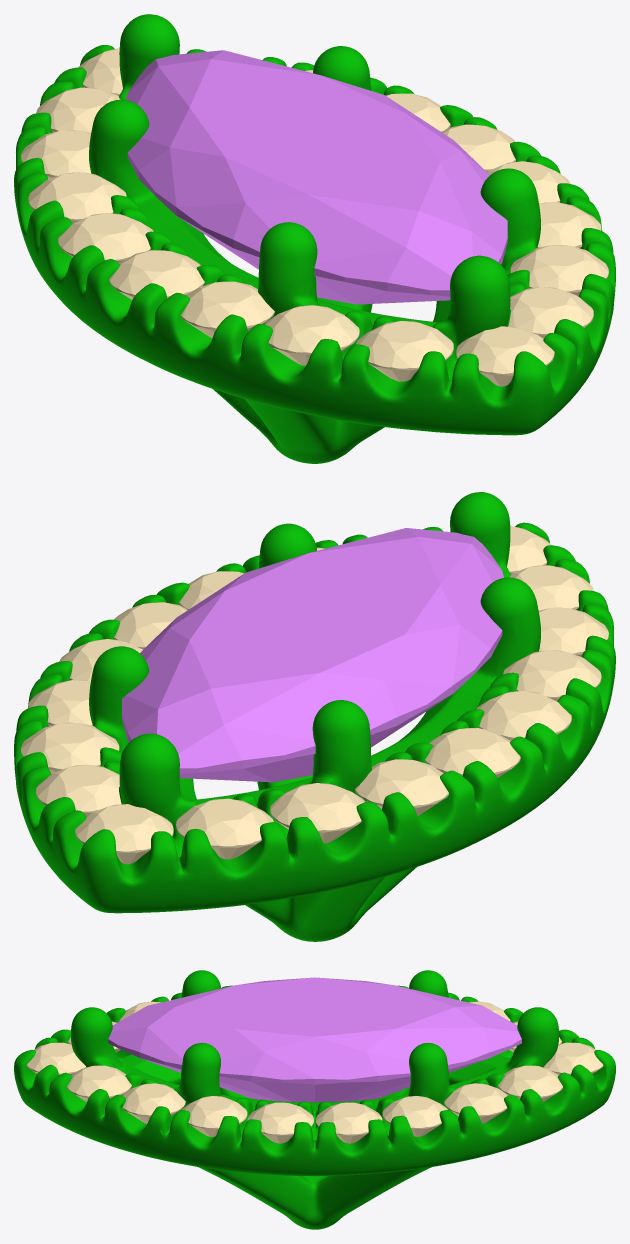
The picture shows the model from 3 angles, top to bottom: view 1: azimuth 30°, elevation 25°; view 2: azimuth 150°, elevation 25°; view 3: azimuth 270°, elevation 25°; orthographic projection. The views are drawn at different scales.
Visible parts, largest first — view 1: Metal01, Diamond_Marquise, Diamond_Round.003, Diamond_Round.004, Diamond_Round.005, Diamond_Round, Diamond_Round.002, Diamond_Round.013, Diamond_Round.007, Diamond_Round.014, Diamond_Round.008, Diamond_Round.015 (+6 smaller); view 2: Metal01, Diamond_Marquise, Diamond_Round.016, Diamond_Round.015, Diamond_Round.014, Diamond_Round.013, Diamond_Round.017, Diamond_Round, Diamond_Round.010, Diamond_Round.005, Diamond_Round.009, Diamond_Round.004 (+6 smaller); view 3: Metal01, Diamond_Marquise, Diamond_Round.001, Diamond_Round.012, Diamond_Round.007, Diamond_Round.010, Diamond_Round.006, Diamond_Round.011, Diamond_Round.009, Diamond_Round.008, Diamond_Round.002, Diamond_Round.017.
Boxes of the visible parts, x1=… form: Metal01: x1=14, y1=14, x2=615, y2=463; Diamond_Marquise: x1=126, y1=50, x2=507, y2=304; Diamond_Round.003: x1=356, y1=321, x2=453, y2=381; Diamond_Round.004: x1=264, y1=305, x2=359, y2=365; Diamond_Round.005: x1=181, y1=281, x2=274, y2=338; Diamond_Round: x1=109, y1=250, x2=204, y2=299; Diamond_Round.002: x1=456, y1=326, x2=554, y2=386; Diamond_Round.013: x1=58, y1=213, x2=153, y2=263; Diamond_Round.007: x1=510, y1=245, x2=608, y2=296; Diamond_Round.014: x1=28, y1=172, x2=126, y2=223; Diamond_Round.008: x1=508, y1=287, x2=593, y2=338; Diamond_Round.015: x1=21, y1=130, x2=91, y2=179; Metal01: x1=14, y1=492, x2=615, y2=941; Diamond_Marquise: x1=122, y1=528, x2=503, y2=782; Diamond_Round.016: x1=176, y1=798, x2=273, y2=859; Diamond_Round.015: x1=270, y1=783, x2=364, y2=843; Diamond_Round.014: x1=355, y1=759, x2=448, y2=816; Diamond_Round.013: x1=425, y1=728, x2=520, y2=777; Diamond_Round.017: x1=75, y1=804, x2=173, y2=864; Diamond_Round: x1=476, y1=690, x2=571, y2=740; Diamond_Round.010: x1=21, y1=722, x2=119, y2=774; Diamond_Round.005: x1=503, y1=650, x2=601, y2=701; Diamond_Round.009: x1=36, y1=764, x2=121, y2=816; Diamond_Round.004: x1=538, y1=607, x2=608, y2=656; Metal01: x1=14, y1=970, x2=615, y2=1229; Diamond_Marquise: x1=108, y1=977, x2=521, y2=1102; Diamond_Round.001: x1=247, y1=1102, x2=313, y2=1143; Diamond_Round.012: x1=316, y1=1102, x2=382, y2=1143; Diamond_Round.007: x1=122, y1=1083, x2=185, y2=1123; Diamond_Round.010: x1=444, y1=1083, x2=507, y2=1123; Diamond_Round.006: x1=182, y1=1096, x2=247, y2=1136; Diamond_Round.011: x1=382, y1=1096, x2=447, y2=1136; Diamond_Round.009: x1=498, y1=1065, x2=562, y2=1102; Diamond_Round.008: x1=67, y1=1065, x2=131, y2=1101; Diamond_Round.002: x1=26, y1=1042, x2=86, y2=1075; Diamond_Round.017: x1=543, y1=1042, x2=603, y2=1075.
Size of the model in its own units: 8.76 by 5.82 by 14.49.
